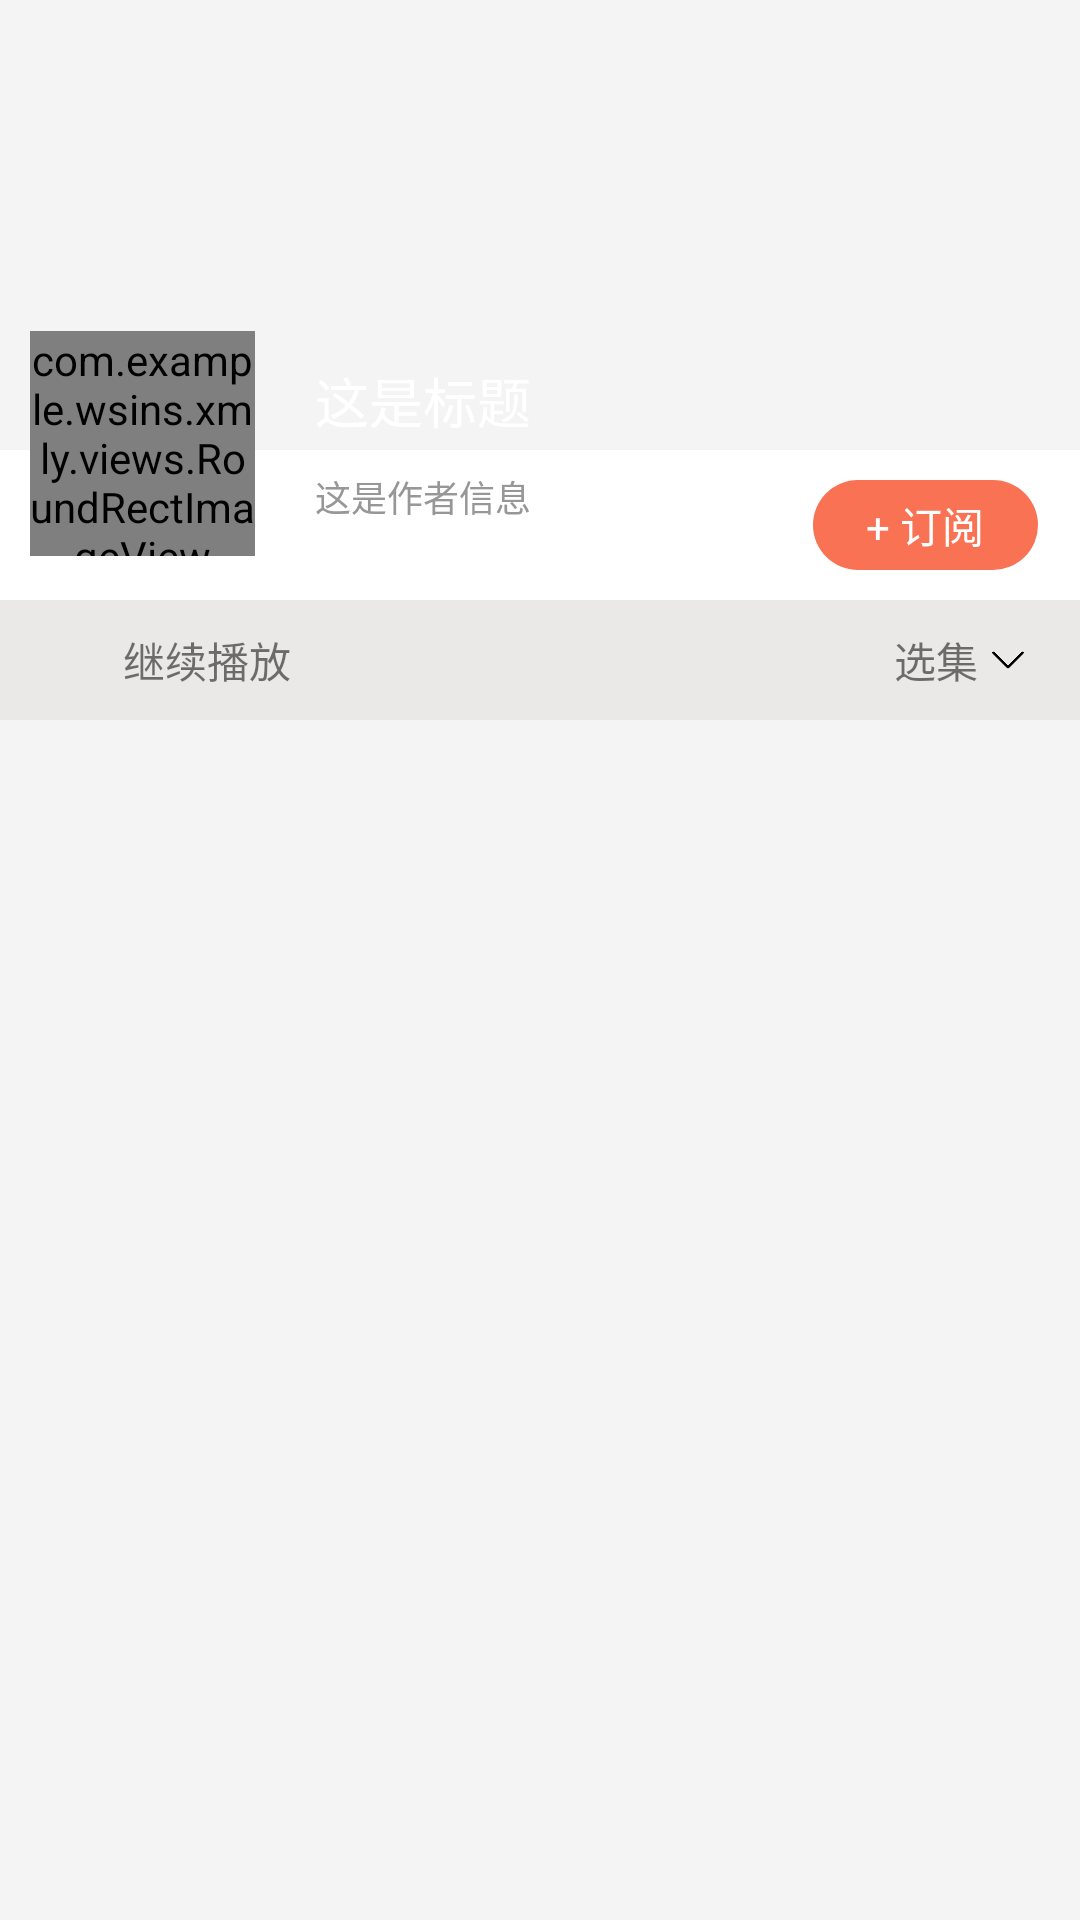

Where icons sit on this 1080x1920 app screen, as [x1, y1, x2, y2]:
arrow: [992, 651, 1024, 669]
